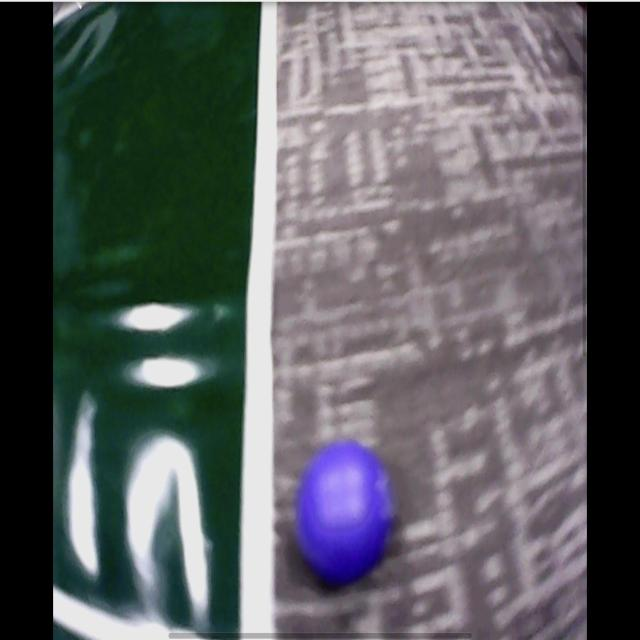ball: (295, 442, 389, 585)
